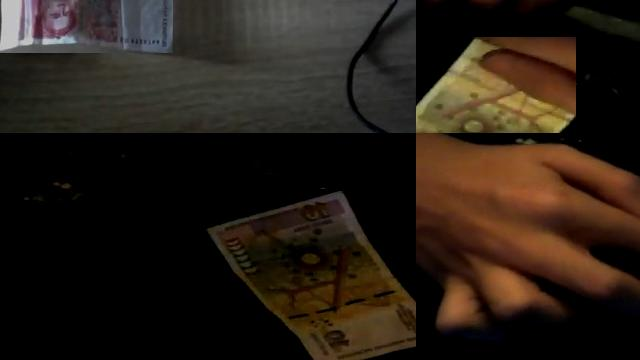10leva: (206, 189, 416, 360), (416, 37, 576, 133)
